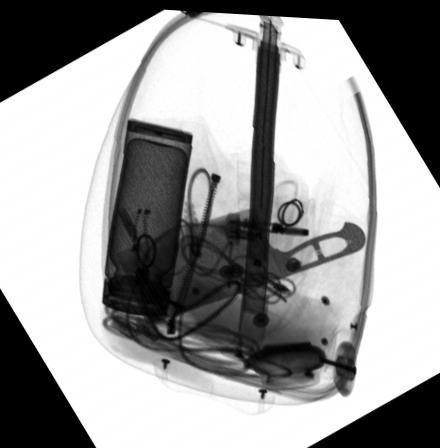Knife: (116, 204, 366, 322)
